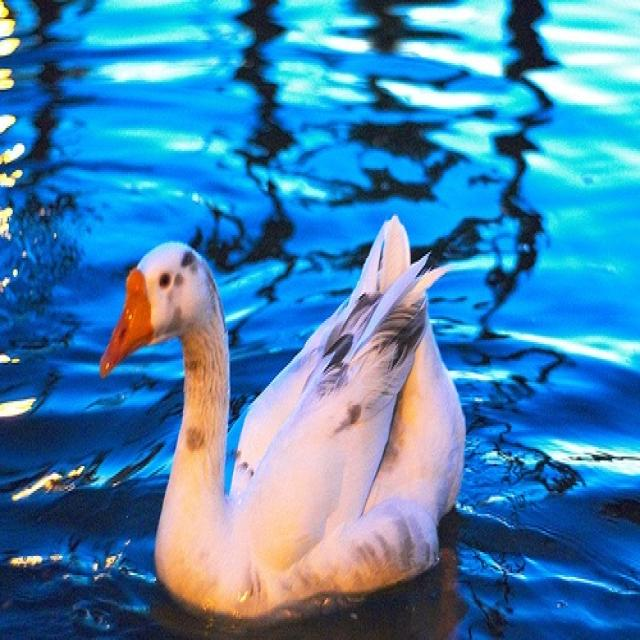bird: (96, 212, 467, 625)
